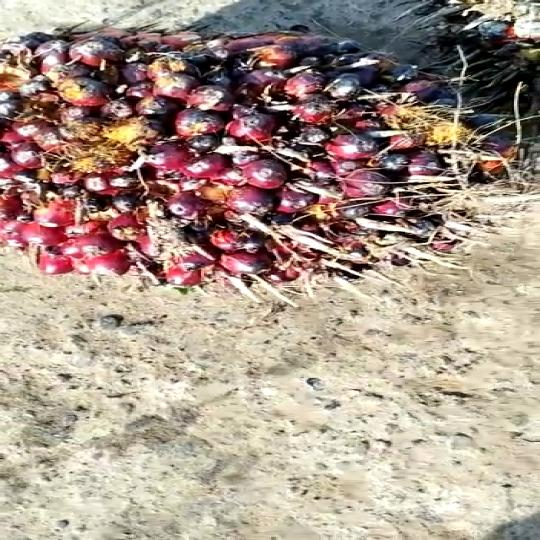masak: (0, 16, 540, 306)
